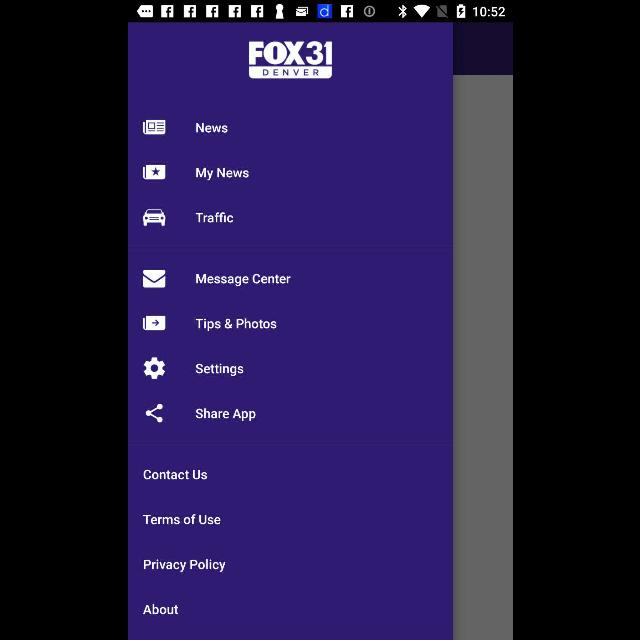icon: (143, 357, 165, 379), (142, 270, 166, 288), (142, 164, 166, 180), (142, 120, 166, 136), (144, 403, 162, 422), (142, 316, 166, 330)
image: (248, 42, 332, 78), (142, 210, 166, 227)
panel: (128, 23, 452, 639)
text: (194, 318, 276, 332), (196, 274, 290, 286), (143, 560, 225, 572), (142, 514, 220, 526), (194, 408, 256, 422), (143, 470, 207, 480), (196, 168, 248, 180), (195, 364, 243, 376), (195, 212, 233, 224), (142, 604, 178, 614), (195, 123, 227, 133)
uppertaskbar: (128, 1, 512, 23)
